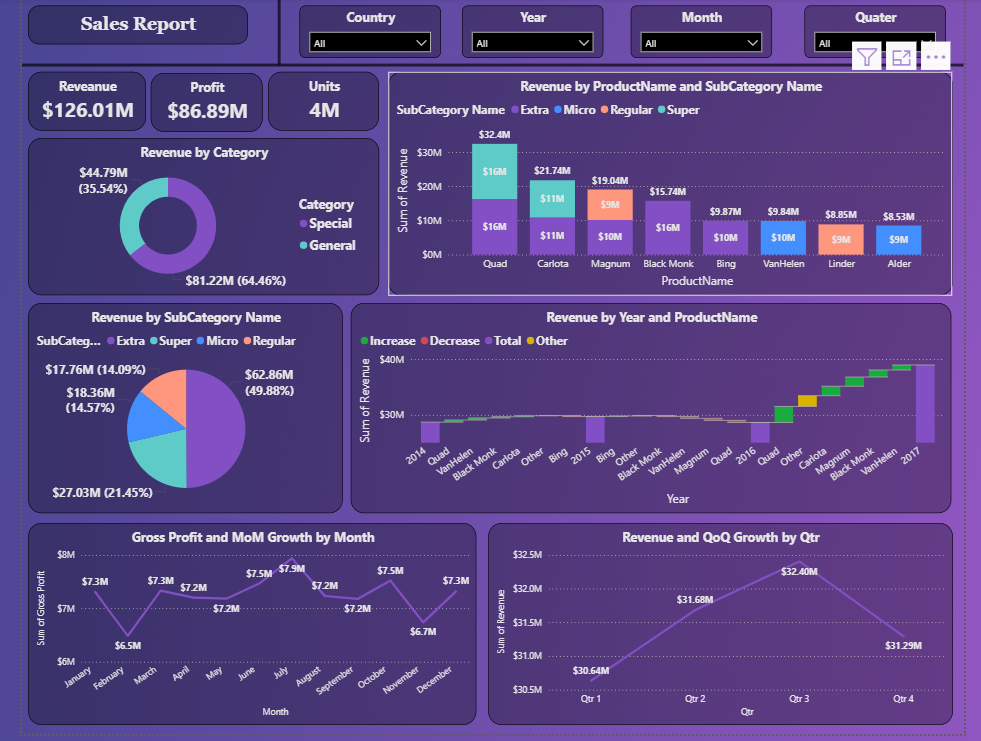

Layout of this report page (visuals, bound fields, positions):
{"tool":"powerbi","page":{"name":"Page 1","canvas":[1280,1000],"ordinal":0},"visuals":[{"type":"textbox","box":[8.6,9.8,298.3,52.6],"z":0},{"type":"slicer","title":"Year","fields":{"Values":["Date Master.Year"]},"box":[597.8,9.8,191.9,70.9],"z":1000},{"type":"slicer","title":"Month","fields":{"Values":["Date Master.Month"]},"box":[826.3,9.8,191.9,70.9],"z":2000},{"type":"slicer","title":"Quater","fields":{"Values":["Date Master.Qtr"]},"box":[1063.5,9.8,191.9,70.9],"z":3000},{"type":"slicer","title":"Country","fields":{"Values":["Geography.Country"]},"box":[376.5,9.8,191.9,70.9],"z":4000},{"type":"shape","box":[0,80.8,1279.5,19.2],"z":5000},{"type":"shape","box":[323.3,1.4,53.4,89],"z":6000},{"type":"card","title":"Reveanue","fields":{"Values":["Sum(Sales.Total Revenue)"]},"box":[8.2,100,160.3,80],"z":7000},{"type":"card","title":"Profit","fields":{"Values":["Sum(Sales.Gross Profit)"]},"box":[175.3,101.4,152.1,80],"z":8000},{"type":"card","title":"Units","fields":{"Values":["Sum(Sales.Units)"]},"box":[334.2,100,150.7,80],"z":9000},{"type":"pieChart","title":"Revenue by SubCategory Name","fields":{"Category":["SubCategory.SubCategory Name"],"Y":["Sum(Sales.Total Revenue)"]},"box":[9.1,414.5,427.3,285.5],"z":10000},{"type":"donutChart","title":"Revenue by Category","fields":{"Y":["Sum(Sales.Total Revenue)"],"Category":["Categories.Category"]},"box":[8.2,190.4,476.7,213.7],"z":11000},{"type":"waterfallChart","title":"Revenue by Year and ProductName","fields":{"Category":["Date Master.Year"],"Breakdown":["Product.ProductName"],"Y":["Sum(Sales.Total Revenue)"]},"box":[447.3,414.5,816.4,285.5],"z":12000},{"type":"columnChart","title":"Revenue by ProductName and SubCategory Name","fields":{"Category":["Product.ProductName"],"Y":["Sum(Sales.Total Revenue)"],"Series":["SubCategory.SubCategory Name"]},"box":[497.3,100,767.1,304.1],"z":13000},{"type":"lineChart","title":"Gross Profit and MoM Growth by Month","fields":{"Category":["Date Master.Month"],"Y":["Sum(Sales.Gross Profit)"]},"box":[9.1,712.7,609.1,274.5],"z":14000},{"type":"lineChart","title":"Revenue and QoQ Growth by Qtr","fields":{"Category":["Date Master.Qtr"],"Y":["Sum(Sales.Revenue)"]},"box":[632.7,712.7,630.9,274.5],"z":15000}]}

Visuals, with their boxes on the page's 1280x1000 design canvas (x1, y1, x2, y2). These are canvas units, not pixel positions in the 981x741 screenshot, which may show the page scaled, cropped or inside an application window:
textbox: Rect(9, 10, 307, 62)
"Year" slicer: Rect(598, 10, 790, 81)
"Month" slicer: Rect(826, 10, 1018, 81)
"Quater" slicer: Rect(1064, 10, 1255, 81)
"Country" slicer: Rect(376, 10, 568, 81)
shape: Rect(0, 81, 1280, 100)
shape: Rect(323, 1, 377, 90)
"Reveanue" card: Rect(8, 100, 168, 180)
"Profit" card: Rect(175, 101, 327, 181)
"Units" card: Rect(334, 100, 485, 180)
"Revenue by SubCategory Name" pieChart: Rect(9, 414, 436, 700)
"Revenue by Category" donutChart: Rect(8, 190, 485, 404)
"Revenue by Year and ProductName" waterfallChart: Rect(447, 414, 1264, 700)
"Revenue by ProductName and SubCategory Name" columnChart: Rect(497, 100, 1264, 404)
"Gross Profit and MoM Growth by Month" lineChart: Rect(9, 713, 618, 987)
"Revenue and QoQ Growth by Qtr" lineChart: Rect(633, 713, 1264, 987)
